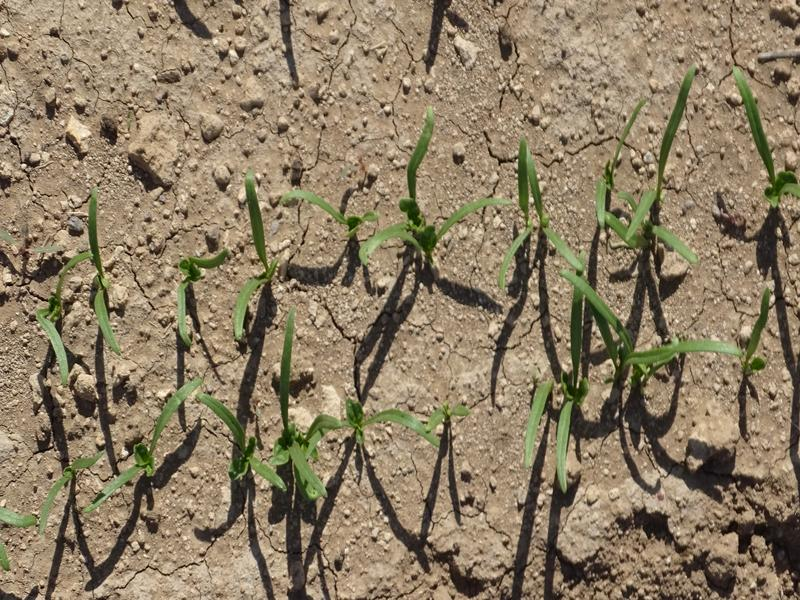Espinaca: (509, 62, 732, 493), (360, 91, 506, 269), (108, 376, 202, 522), (42, 187, 109, 376), (323, 390, 470, 457), (731, 68, 798, 204), (278, 311, 319, 507), (202, 397, 273, 502), (33, 444, 102, 534), (235, 173, 271, 335), (171, 246, 228, 340), (283, 192, 378, 225)
